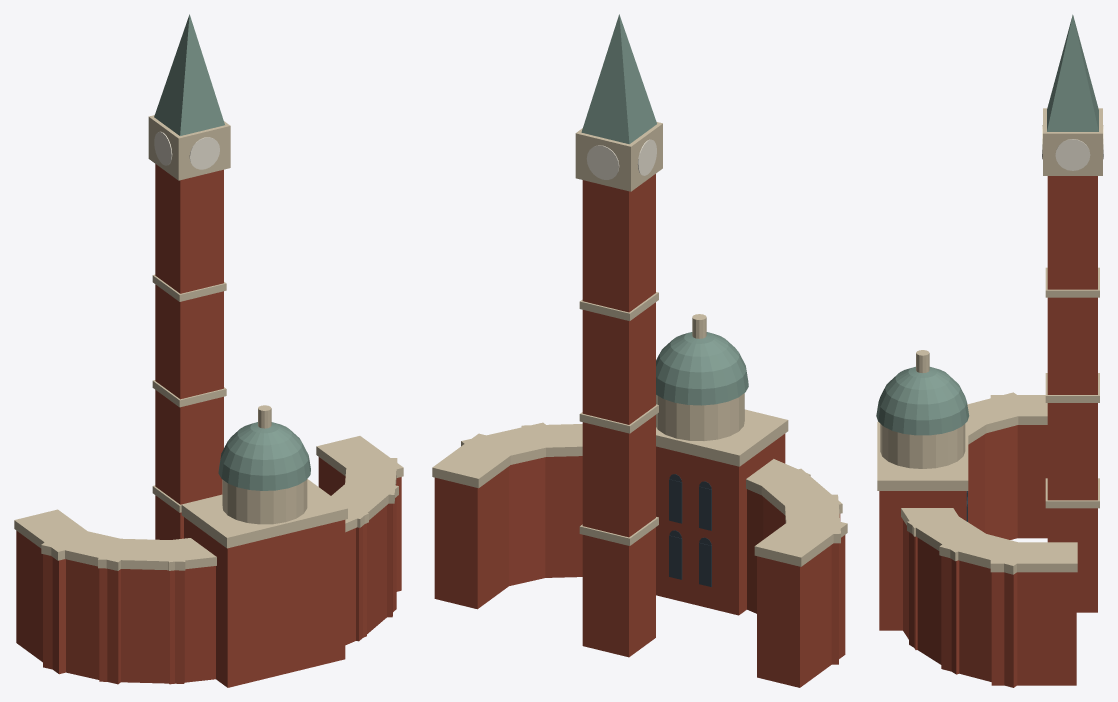
File: birmingham.glb
The picture shows the model from 3 angles, left to right: view 1: azimuth 30°, elevation 25°; view 2: azimuth 150°, elevation 25°; view 3: azimuth 270°, elevation 25°; orthographic projection. The views are drawn at different scales.
Parts seen in each view (by area): view 1: birmingham; view 2: birmingham; view 3: birmingham.
Boxes of the visible parts, <box> form: birmingham: <box>14,14,403,687</box>; birmingham: <box>432,14,847,687</box>; birmingham: <box>876,14,1103,687</box>.
Size of the model in its own units: 21.21 by 33.5 by 11.74.
